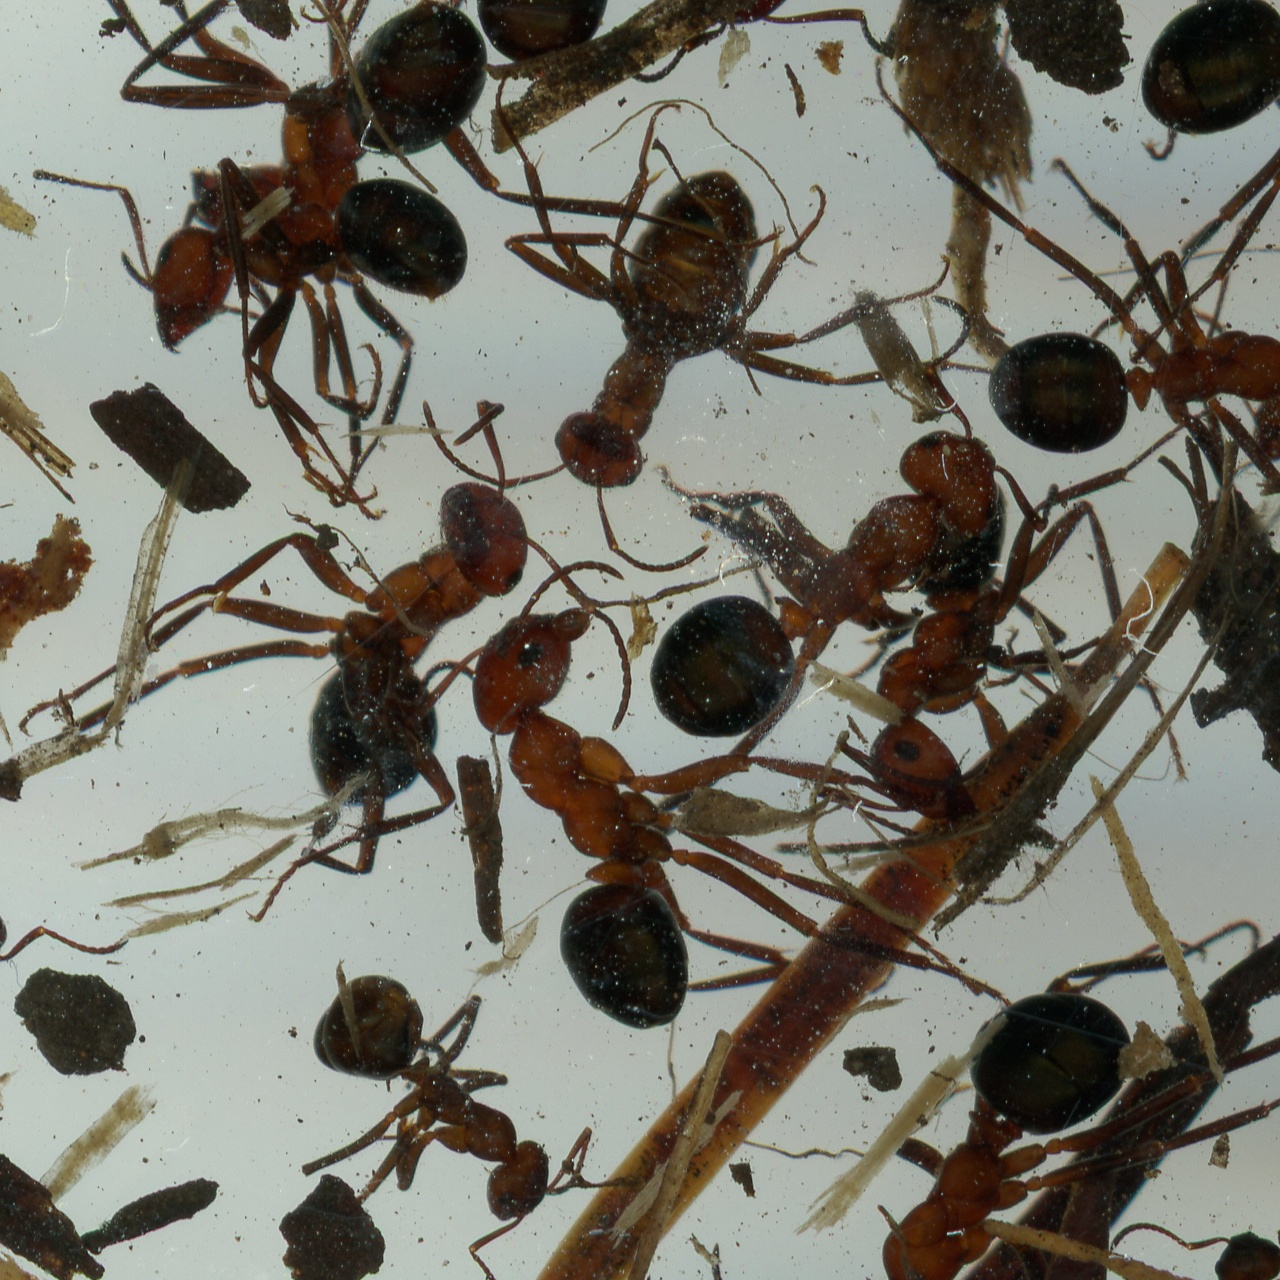arthropod: (399, 35, 965, 634), (537, 291, 1068, 836), (784, 866, 1280, 1280), (129, 354, 510, 892), (28, 148, 510, 517), (428, 547, 784, 1035), (9, 0, 492, 326), (223, 918, 647, 1280), (928, 136, 1280, 474), (0, 612, 173, 1160), (790, 492, 1009, 823), (0, 1012, 243, 1280), (1108, 0, 1280, 318), (1184, 906, 1280, 1280), (559, 0, 897, 94), (372, 0, 690, 74), (1234, 498, 1280, 992), (1109, 1191, 1280, 1280), (1241, 308, 1280, 517), (217, 16, 282, 68), (0, 1048, 26, 1117)
